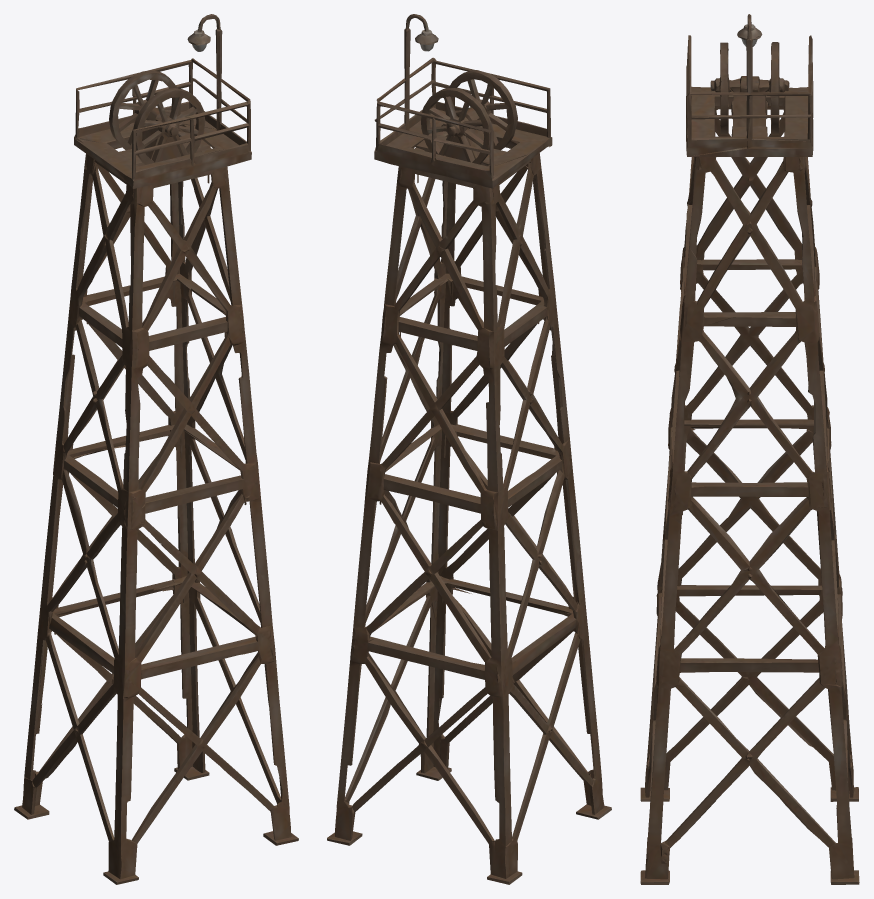
File: lattice_headframe_slim.glb
The picture shows the model from 3 angles, left to right: view 1: azimuth 30°, elevation 25°; view 2: azimuth 150°, elevation 25°; view 3: azimuth 270°, elevation 25°; orthographic projection. The views are drawn at different scales.
Parts seen in each view (by area): view 1: main; view 2: main; view 3: main.
Boxes of the visible parts, x1,y1,x2,y2 form: main: (14,14,298,884); main: (327,14,611,884); main: (640,14,859,884).
Size of the model in its own units: 2.82 by 11.8 by 2.76.
Materials: 1 (1 with a texture image).
